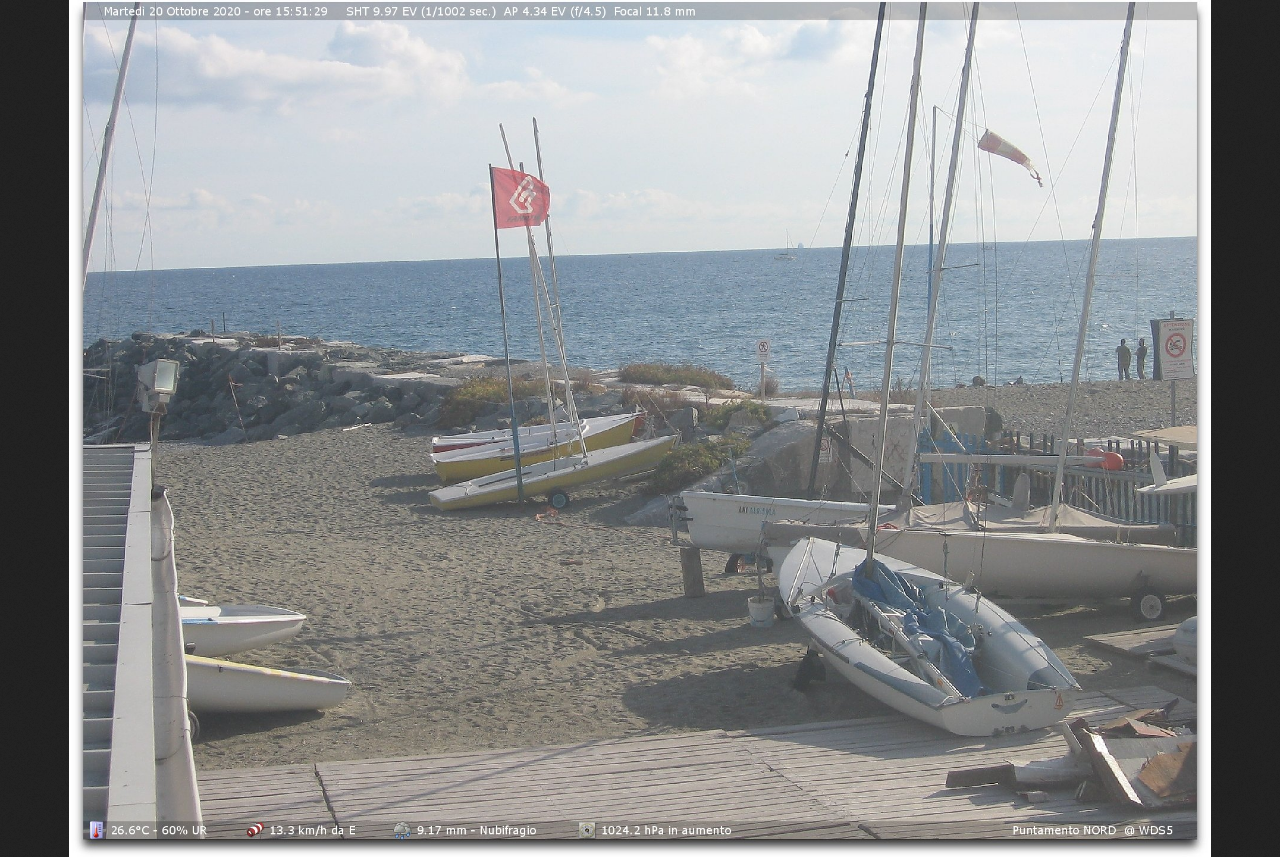yes: (488, 162, 552, 232)
